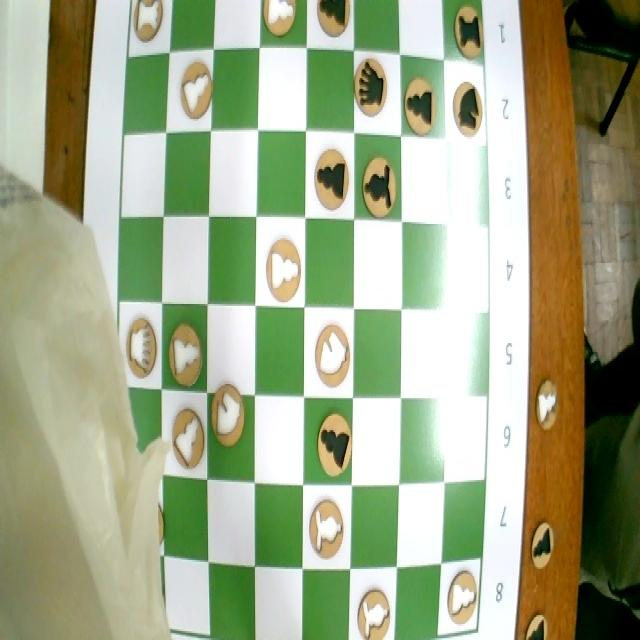chess-pieces: (259, 228, 305, 306), (356, 143, 400, 221), (210, 377, 250, 461), (312, 137, 352, 219), (169, 50, 213, 124), (308, 404, 353, 476), (447, 75, 488, 154), (352, 51, 392, 131), (306, 322, 352, 390), (400, 68, 440, 142), (169, 401, 205, 480), (307, 490, 345, 564), (165, 316, 203, 388), (122, 312, 156, 388), (356, 579, 395, 640), (444, 565, 479, 625), (450, 8, 486, 64), (314, 0, 354, 45), (131, 0, 169, 43), (262, 0, 301, 41)
